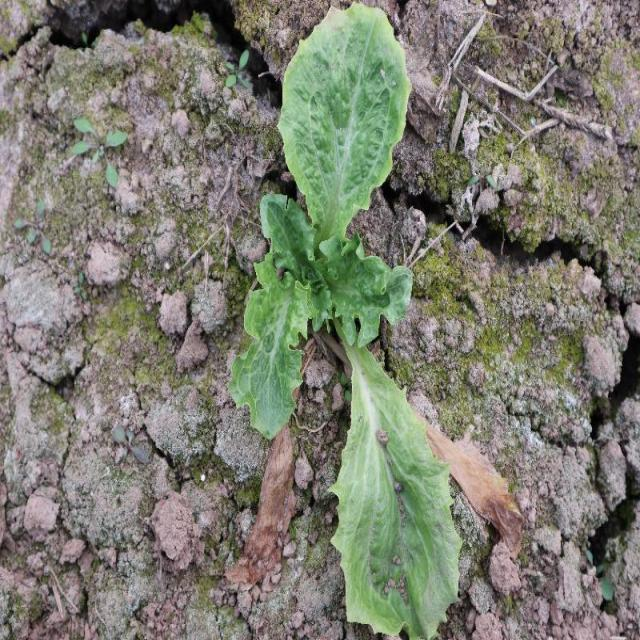crop: (226, 1, 461, 640)
